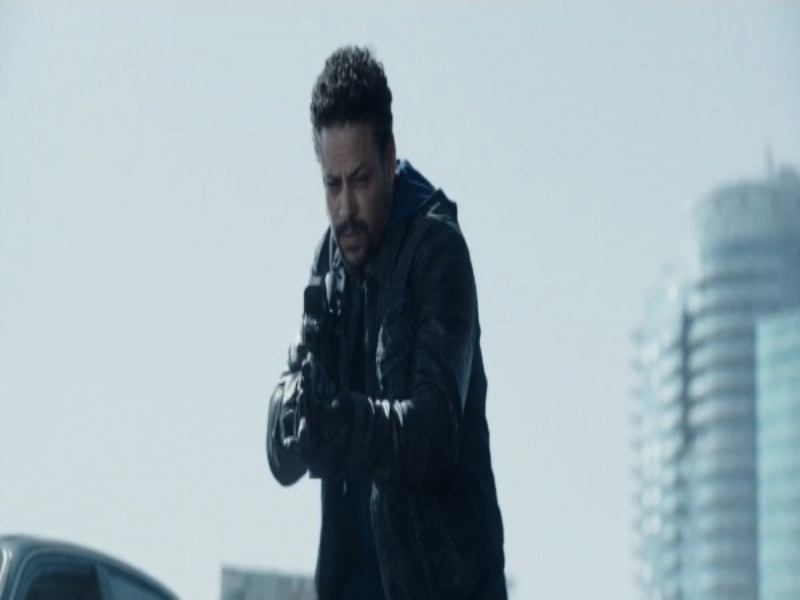person: (265, 49, 508, 600)
weapon: (295, 266, 334, 444)
